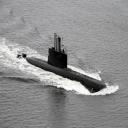submarine: (18, 33, 108, 94)
